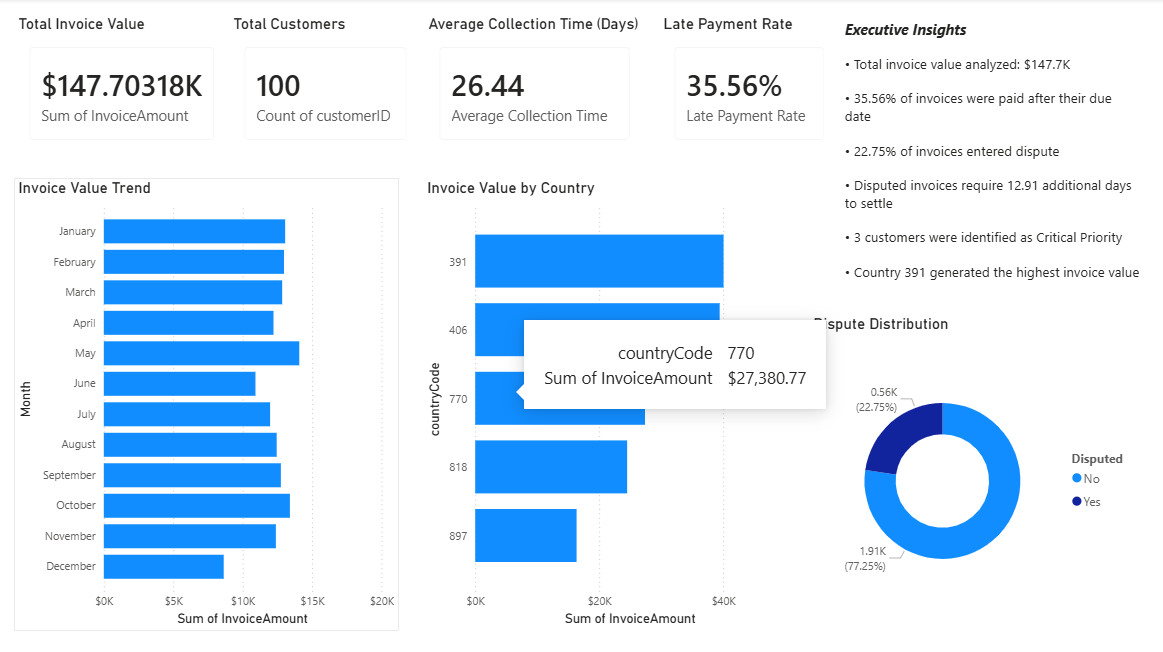

This screenshot's page, from the dashboard's own definition file:
{"tool":"powerbi","page":{"name":"Executive Dashboard","canvas":[1280,720],"ordinal":0},"visuals":[{"type":"cardVisual","title":"Total Invoice Value","fields":{"Data":["Sum(WA_Fn-UseC_-Accounts-Receivable.InvoiceAmount)"]},"box":[15.9,18.3,237.2,155.3],"z":0},{"type":"cardVisual","title":"Total Customers","fields":{"Data":["Count(WA_Fn-UseC_-Accounts-Receivable.customerID)"]},"box":[253.1,18.3,212.8,155.3],"z":1000},{"type":"cardVisual","title":"Average Collection Time (Days)","fields":{"Data":["WA_Fn-UseC_-Accounts-Receivable.Average Collection Time"]},"box":[465.9,18.3,243.3,155.3],"z":2000},{"type":"cardVisual","title":"Late Payment Rate","fields":{"Data":["WA_Fn-UseC_-Accounts-Receivable.Late Payment Rate"]},"box":[725.1,18.3,198.1,155.3],"z":3000},{"type":"barChart","title":"Invoice Value Trend","fields":{"Category":["WA_Fn-UseC_-Accounts-Receivable.InvoiceDate.Variation.Date Hierarchy.Month"],"Y":["Sum(WA_Fn-UseC_-Accounts-Receivable.InvoiceAmount)"]},"box":[16.5,197.6,422.6,496.7],"z":4000},{"type":"donutChart","title":"Dispute Distribution","fields":{"Category":["WA_Fn-UseC_-Accounts-Receivable.Disputed"],"Y":["CountNonNull(WA_Fn-UseC_-Accounts-Receivable.invoiceNumber)"]},"box":[889,347.3,369.3,347.3],"z":5000},{"type":"clusteredBarChart","title":"Invoice Value by Country","fields":{"Category":["WA_Fn-UseC_-Accounts-Receivable.countryCode"],"Y":["Sum(WA_Fn-UseC_-Accounts-Receivable.InvoiceAmount)"]},"box":[465.2,197.6,417.2,496.7],"z":6000},{"type":"textbox","box":[923.2,18.3,335.1,328.9],"z":7000}]}

Visuals, with their boxes in screenshot pixels (x1, y1, x2, y2), scaled from the page's 1280x720 canvas onto the 1163x652 screenshot:
"Total Invoice Value" cardVisual: select_region(14, 17, 230, 157)
"Total Customers" cardVisual: select_region(230, 17, 423, 157)
"Average Collection Time (Days)" cardVisual: select_region(423, 17, 644, 157)
"Late Payment Rate" cardVisual: select_region(659, 17, 839, 157)
"Invoice Value Trend" barChart: select_region(15, 179, 399, 629)
"Dispute Distribution" donutChart: select_region(808, 314, 1143, 629)
"Invoice Value by Country" clusteredBarChart: select_region(423, 179, 802, 629)
textbox: select_region(839, 17, 1143, 314)
